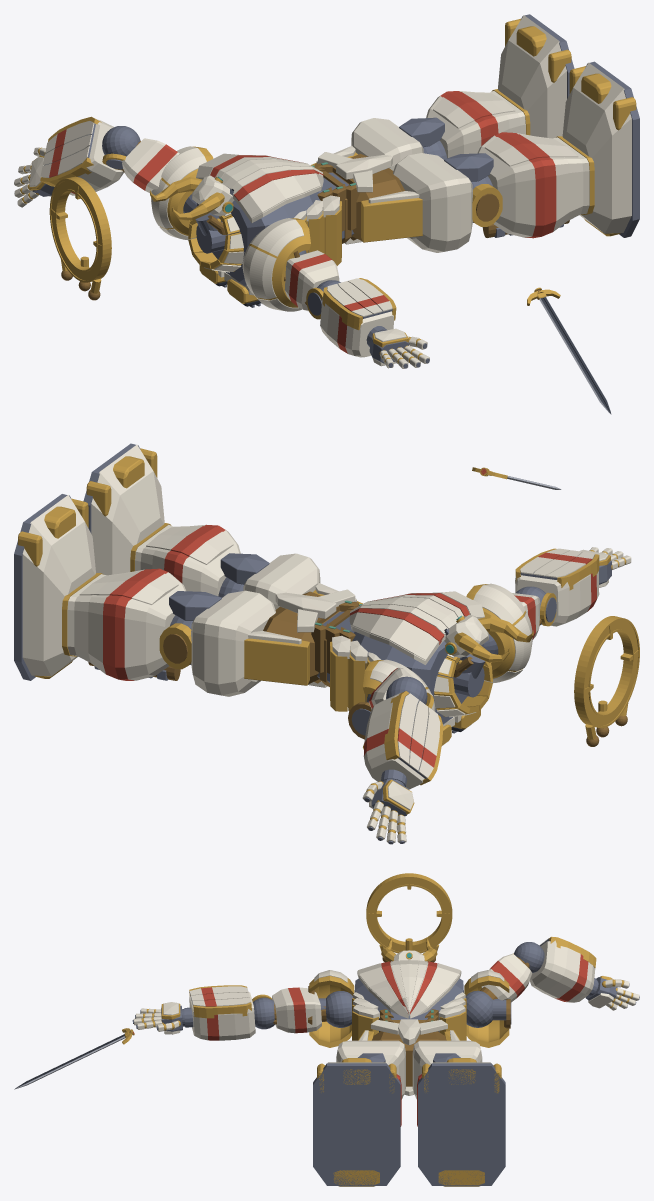
File: posed.glb
3 views of the same model, one above another, from view 1: azimuth 30°, elevation 25°; view 2: azimuth 150°, elevation 25°; view 3: azimuth 270°, elevation 25° (orthographic). The views are drawn at different scales.
Visible parts, largest first — view 1: titan/shin.R/greave-side-shell, titan/foot.R/foot-shell, titan/thigh.R/thigh-armour, titan/foot.L/foot-shell, titan/shin.L/greave-side-shell, titan/pelvis/hip-skirt-trim-R, titan/halo/main-ring, titan/thigh.L/thigh-armour, titan/upper_arm.R/upper-arm-armour, titan/forearm.R/forearm-armour, titan/shin.R/greave-armour, titan/upper_arm.L/upper-arm-armour (+34 smaller); view 2: titan/shin.L/greave-side-shell, titan/foot.L/foot-shell, titan/thigh.L/thigh-armour, titan/foot.R/foot-shell, titan/shin.R/greave-side-shell, titan/pelvis/hip-skirt-trim-L, titan/halo/main-ring, titan/thigh.R/thigh-armour, titan/forearm.L/forearm-armour, titan/forearm.R/forearm-armour, titan/shin.L/greave-armour, titan/shin.R/greave-armour (+34 smaller); view 3: titan/foot.R/sole, titan/foot.L/sole, titan/forearm.L/forearm-armour, titan/upper_arm.R/upper-arm-armour, titan/halo/main-ring, titan/forearm.R/forearm-armour, titan/thigh.L/thigh-armour, titan/thigh.R/thigh-armour, titan/shoulder.R/pauldron-shell, titan/shoulder.L/pauldron-shell, titan/upper_arm.L/upper-arm-armour, titan/chest/breastplate-groove-bed (+18 smaller).
Boxes of the visible parts, box(x1,y1,x2,y2) form: titan/shin.R/greave-side-shell: box(477, 132, 589, 238); titan/foot.R/foot-shell: box(562, 62, 631, 233); titan/thigh.R/thigh-armour: box(393, 153, 472, 252); titan/foot.L/foot-shell: box(498, 15, 566, 138); titan/shin.L/greave-side-shell: box(426, 91, 525, 158); titan/pelvis/hip-skirt-trim-R: box(361, 198, 422, 242); titan/halo/main-ring: box(51, 177, 110, 280); titan/thigh.L/thigh-armour: box(351, 118, 423, 170); titan/upper_arm.R/upper-arm-armour: box(284, 250, 339, 311); titan/forearm.R/forearm-armour: box(320, 290, 394, 357); titan/shin.R/greave-armour: box(484, 133, 578, 166); titan/upper_arm.L/upper-arm-armour: box(122, 138, 179, 192); titan/shin.L/greave-side-shell: box(67, 568, 185, 680); titan/foot.L/foot-shell: box(22, 495, 95, 676); titan/thigh.L/thigh-armour: box(191, 590, 275, 696); titan/foot.R/foot-shell: box(91, 444, 164, 575); titan/shin.R/greave-side-shell: box(135, 524, 240, 595); titan/pelvis/hip-skirt-trim-L: box(244, 638, 309, 685); titan/halo/main-ring: box(575, 616, 637, 725); titan/thigh.R/thigh-armour: box(243, 553, 320, 609); titan/forearm.L/forearm-armour: box(363, 693, 424, 789); titan/forearm.R/forearm-armour: box(515, 571, 599, 626); titan/shin.L/greave-armour: box(79, 570, 178, 604); titan/shin.R/greave-armour: box(146, 526, 233, 564); titan/foot.R/sole: box(313, 1063, 400, 1185); titan/foot.L/sole: box(418, 1063, 505, 1185); titan/forearm.L/forearm-armour: box(530, 940, 595, 1002); titan/upper_arm.R/upper-arm-armour: box(272, 987, 321, 1033); titan/halo/main-ring: box(366, 873, 452, 951); titan/forearm.R/forearm-armour: box(189, 992, 255, 1040); titan/thigh.L/thigh-armour: box(412, 1040, 482, 1099); titan/thigh.R/thigh-armour: box(336, 1040, 405, 1099); titan/shoulder.R/pauldron-shell: box(309, 976, 354, 1047); titan/shoulder.L/pauldron-shell: box(464, 976, 509, 1047); titan/upper_arm.L/upper-arm-armour: box(481, 953, 532, 1002); titan/chest/breastplate-groove-bed: box(357, 961, 461, 1018).
Bounding box in the file's own units: 1621 × 487 × 2146.
